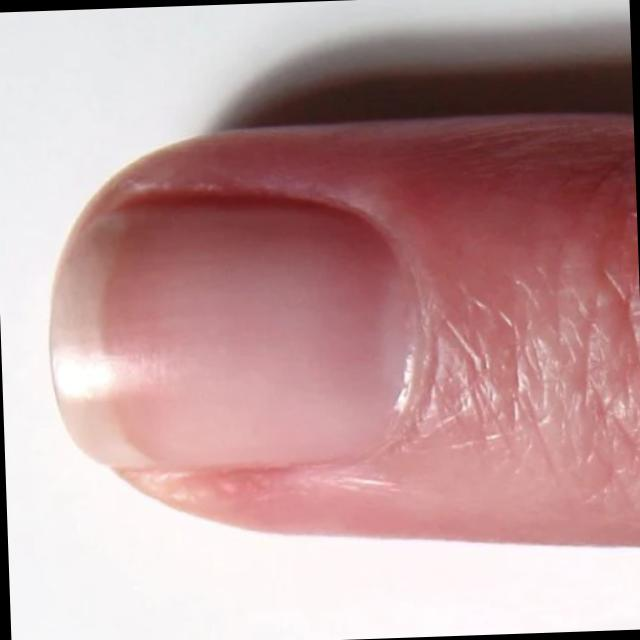Nail: (51, 197, 409, 466)
